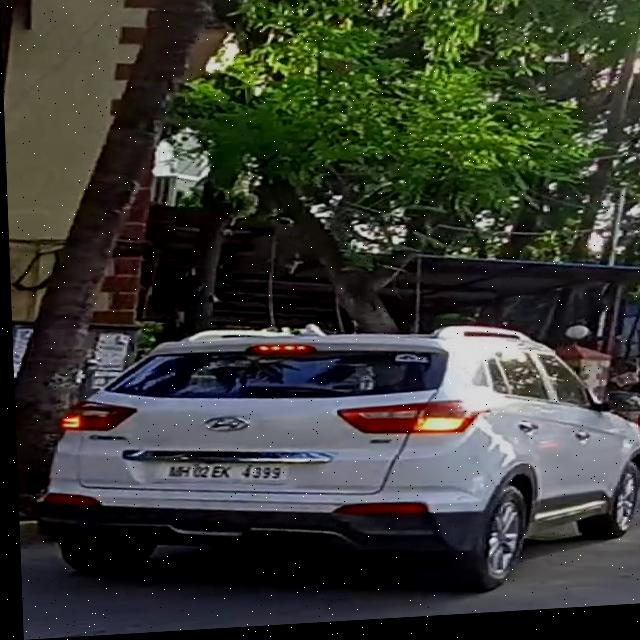plate: (152, 459, 284, 492)
